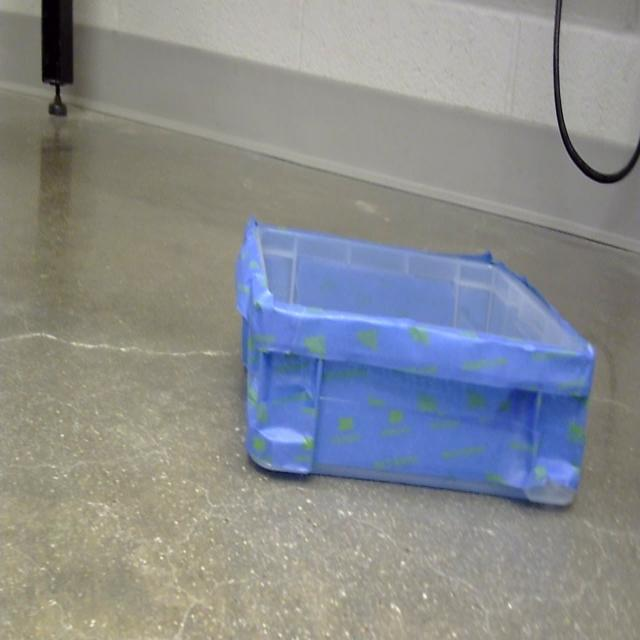bucket: (234, 218, 596, 511)
